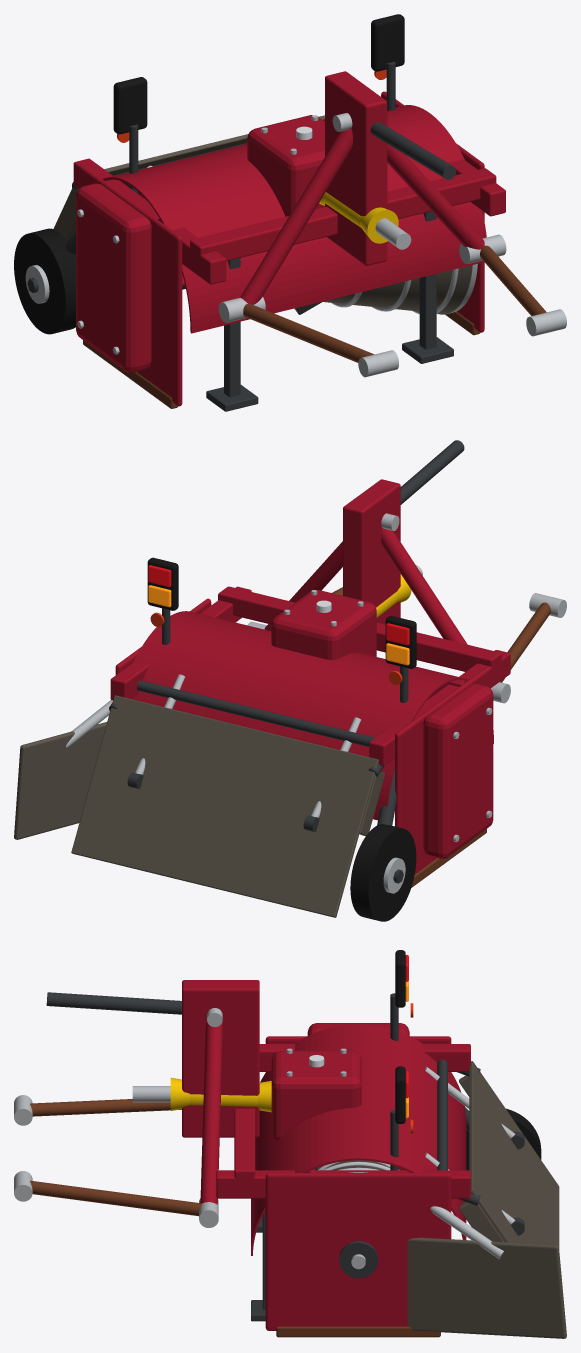
The model's file is azenuri.glb.
3 renders of one model, top to bottom at view 1: azimuth 30°, elevation 25°; view 2: azimuth 150°, elevation 25°; view 3: azimuth 270°, elevation 25°, orthographic. The views are drawn at different scales.
Parts seen in each view (by area): view 1: AzenuriFrame, FormerRotor, PressPlate; view 2: AzenuriFrame, PressPlate; view 3: AzenuriFrame, PressPlate, FormerRotor.
Part boxes in pixels (x1=…): AzenuriFrame: x1=14, y1=14, x2=566, y2=411; FormerRotor: x1=182, y1=263, x2=477, y2=314; PressPlate: x1=53, y1=115, x2=324, y2=240; AzenuriFrame: x1=14, y1=440, x2=566, y2=921; PressPlate: x1=71, y1=674, x2=384, y2=917; AzenuriFrame: x1=14, y1=950, x2=566, y2=1338; PressPlate: x1=425, y1=1059, x2=559, y2=1248; FormerRotor: x1=315, y1=1160, x2=399, y2=1172.
Size of the model in its own units: 1.38 by 1.06 by 1.85.
